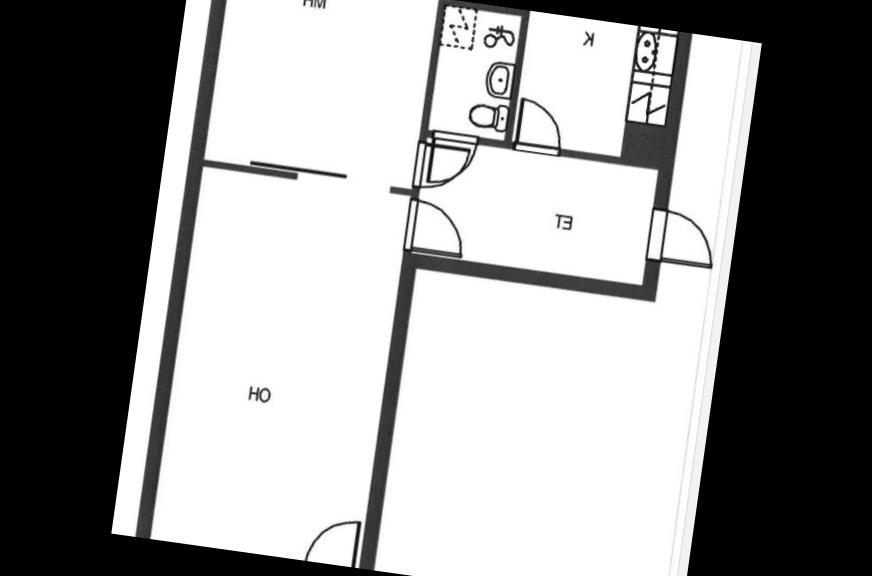door: (640, 202, 723, 274), (398, 194, 470, 257), (510, 92, 568, 162), (406, 140, 474, 198), (300, 508, 364, 568), (425, 125, 483, 189)
